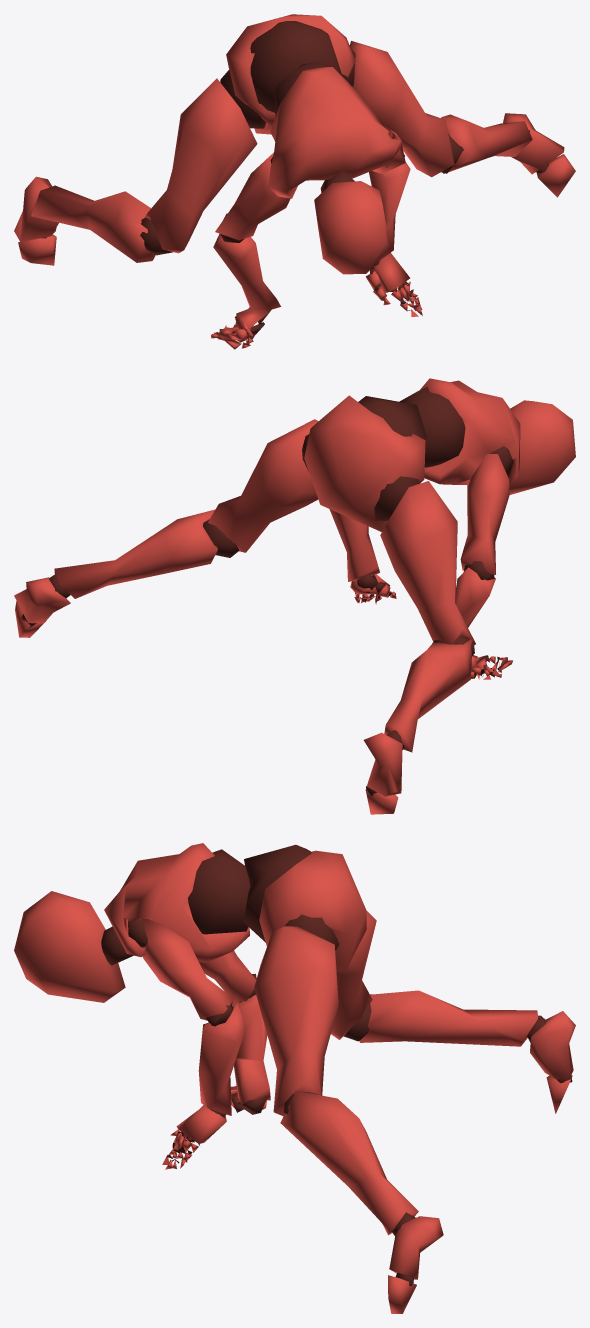
3 views of the same model, one above another, from view 1: azimuth 30°, elevation 25°; view 2: azimuth 150°, elevation 25°; view 3: azimuth 270°, elevation 25° (orthographic). The views are drawn at different scales.
Parts seen in each view (by area): view 1: Beta_Surface; view 2: Beta_Surface; view 3: Beta_Surface.
Boxes of the visible parts, x1,y1,x2,y2 form: Beta_Surface: (14,14,575,349); Beta_Surface: (14,378,575,814); Beta_Surface: (14,843,575,1313).
Bounding box in the file's own units: 14.24 × 8.78 × 13.68.
